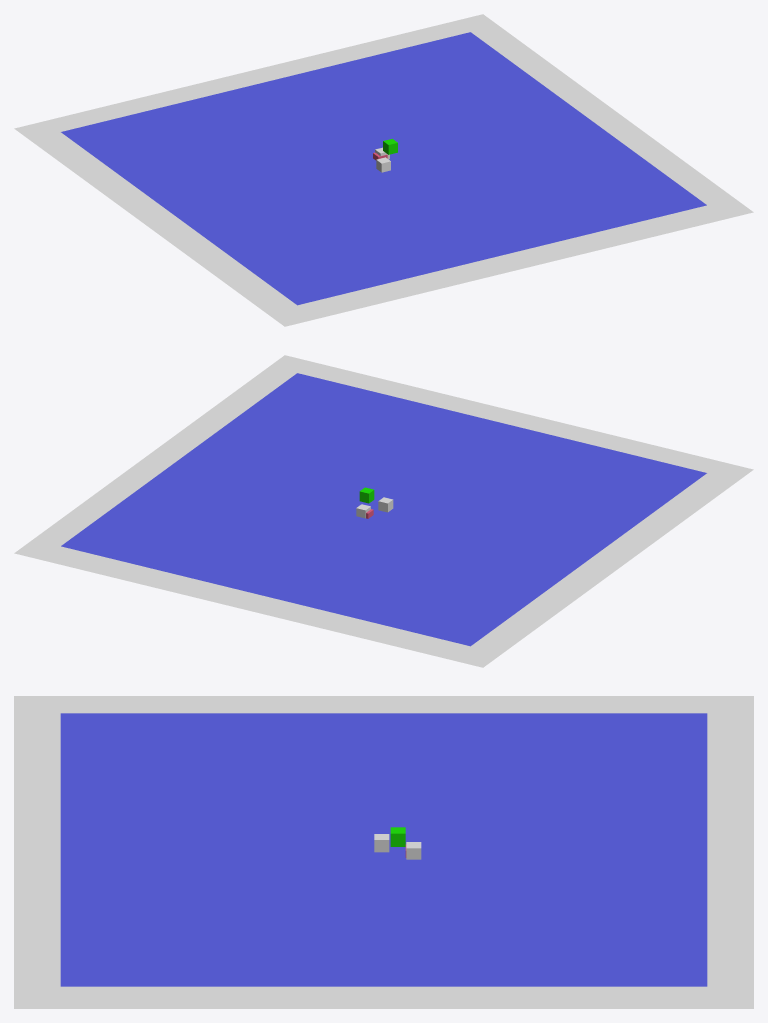
3 renders of one model, top to bottom at view 1: azimuth 30°, elevation 25°; view 2: azimuth 150°, elevation 25°; view 3: azimuth 270°, elevation 25°, orthographic. The views are drawn at different scales.
Parts seen in each view (by area): view 1: Plane, nav_mesh; view 2: Plane, nav_mesh; view 3: Plane, nav_mesh.
Boxes of the visible parts, <box> form: Plane: <box>61,32,706,305</box>; nav_mesh: <box>14,14,753,326</box>; Plane: <box>61,373,706,646</box>; nav_mesh: <box>14,355,753,667</box>; Plane: <box>60,713,707,986</box>; nav_mesh: <box>14,696,753,1008</box>.
Size of the model in its own units: 99.4 by 5 by 99.4.
